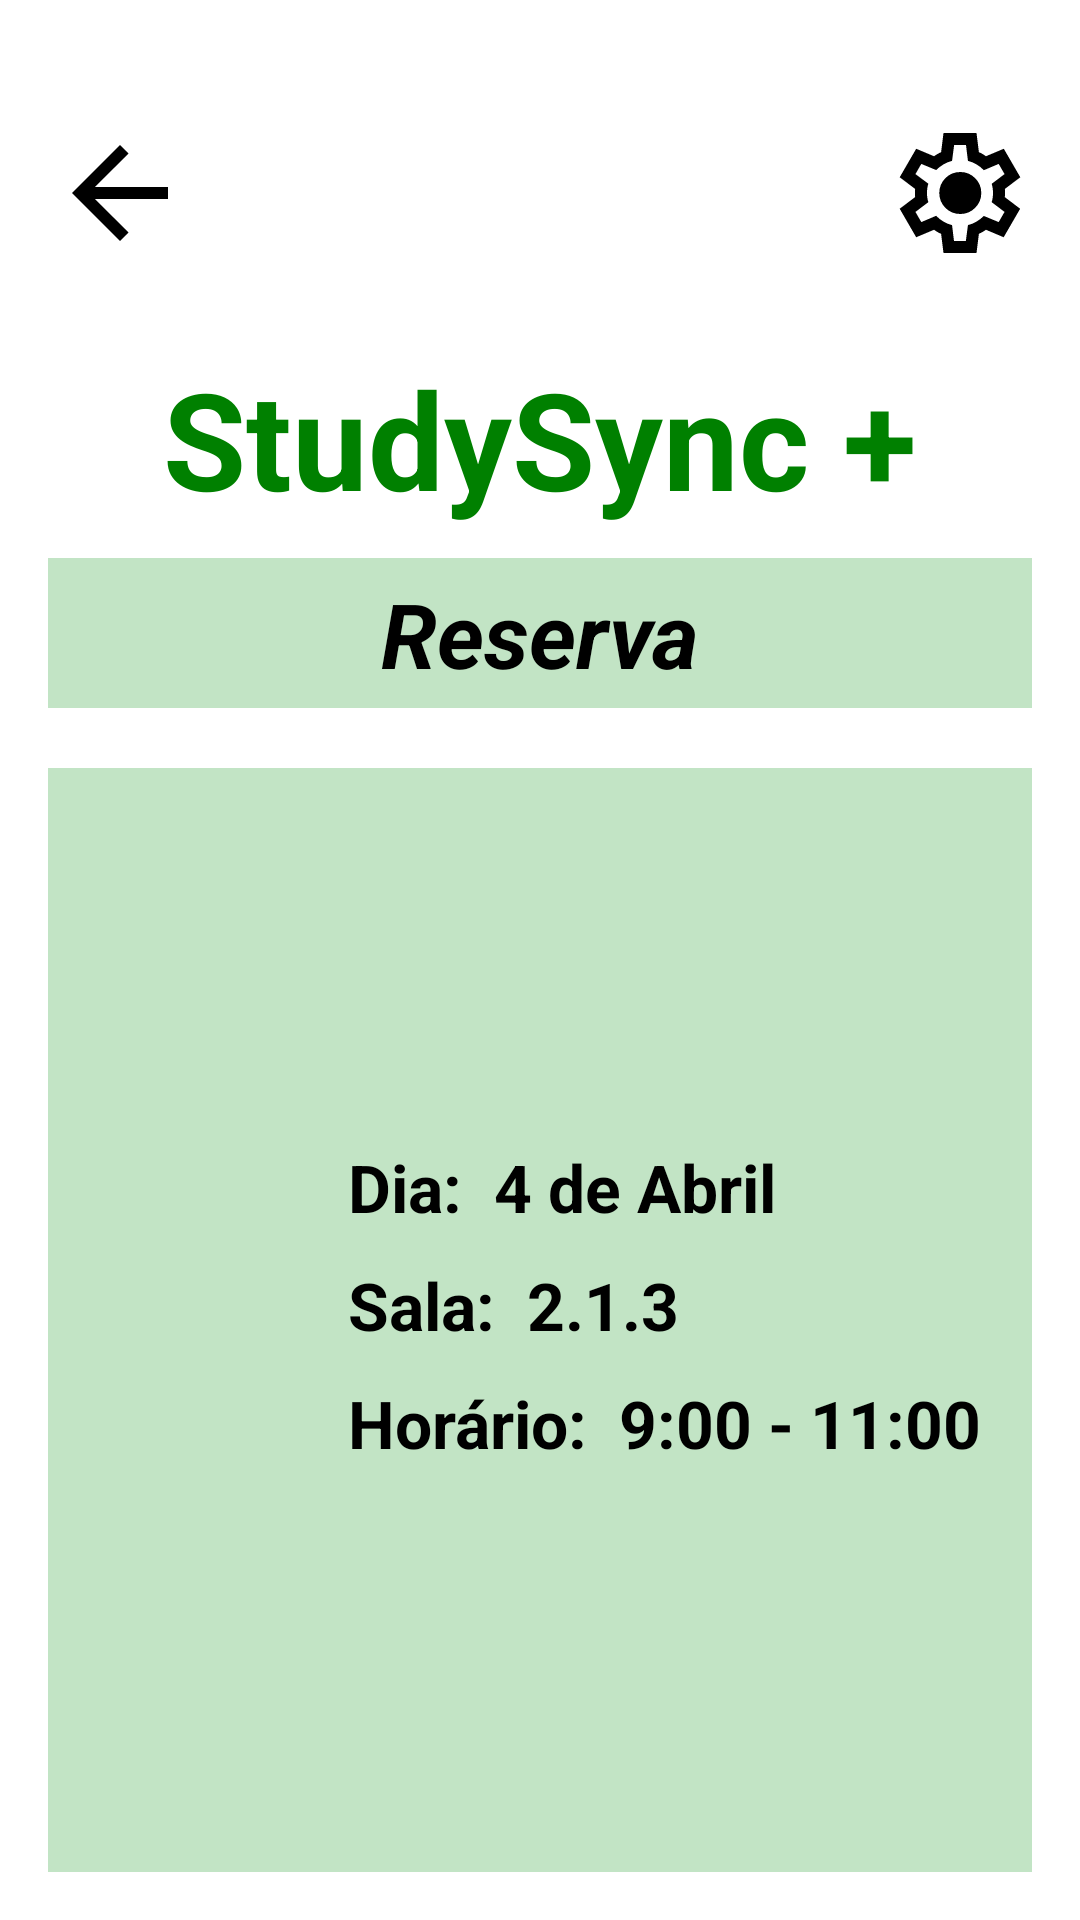

Icon click points for this 1080×1920 phone screenshot, format (x,y):
back arrow: (120,193)
settings cog: (960,193)
